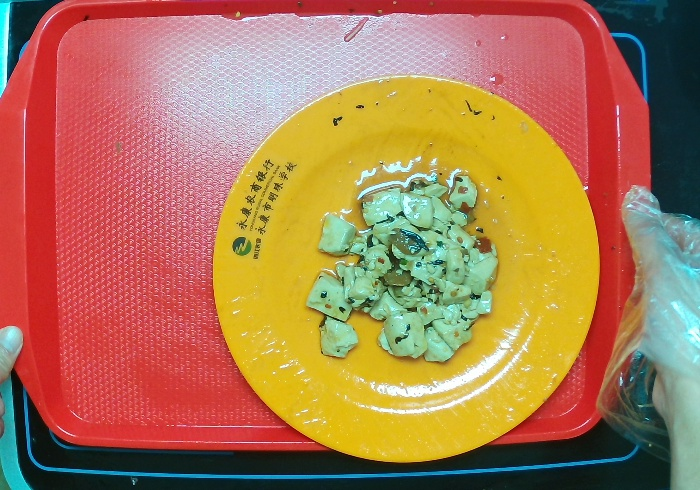YKMZ-Ju_Se_Mian_Pan: (211, 74, 601, 465)
